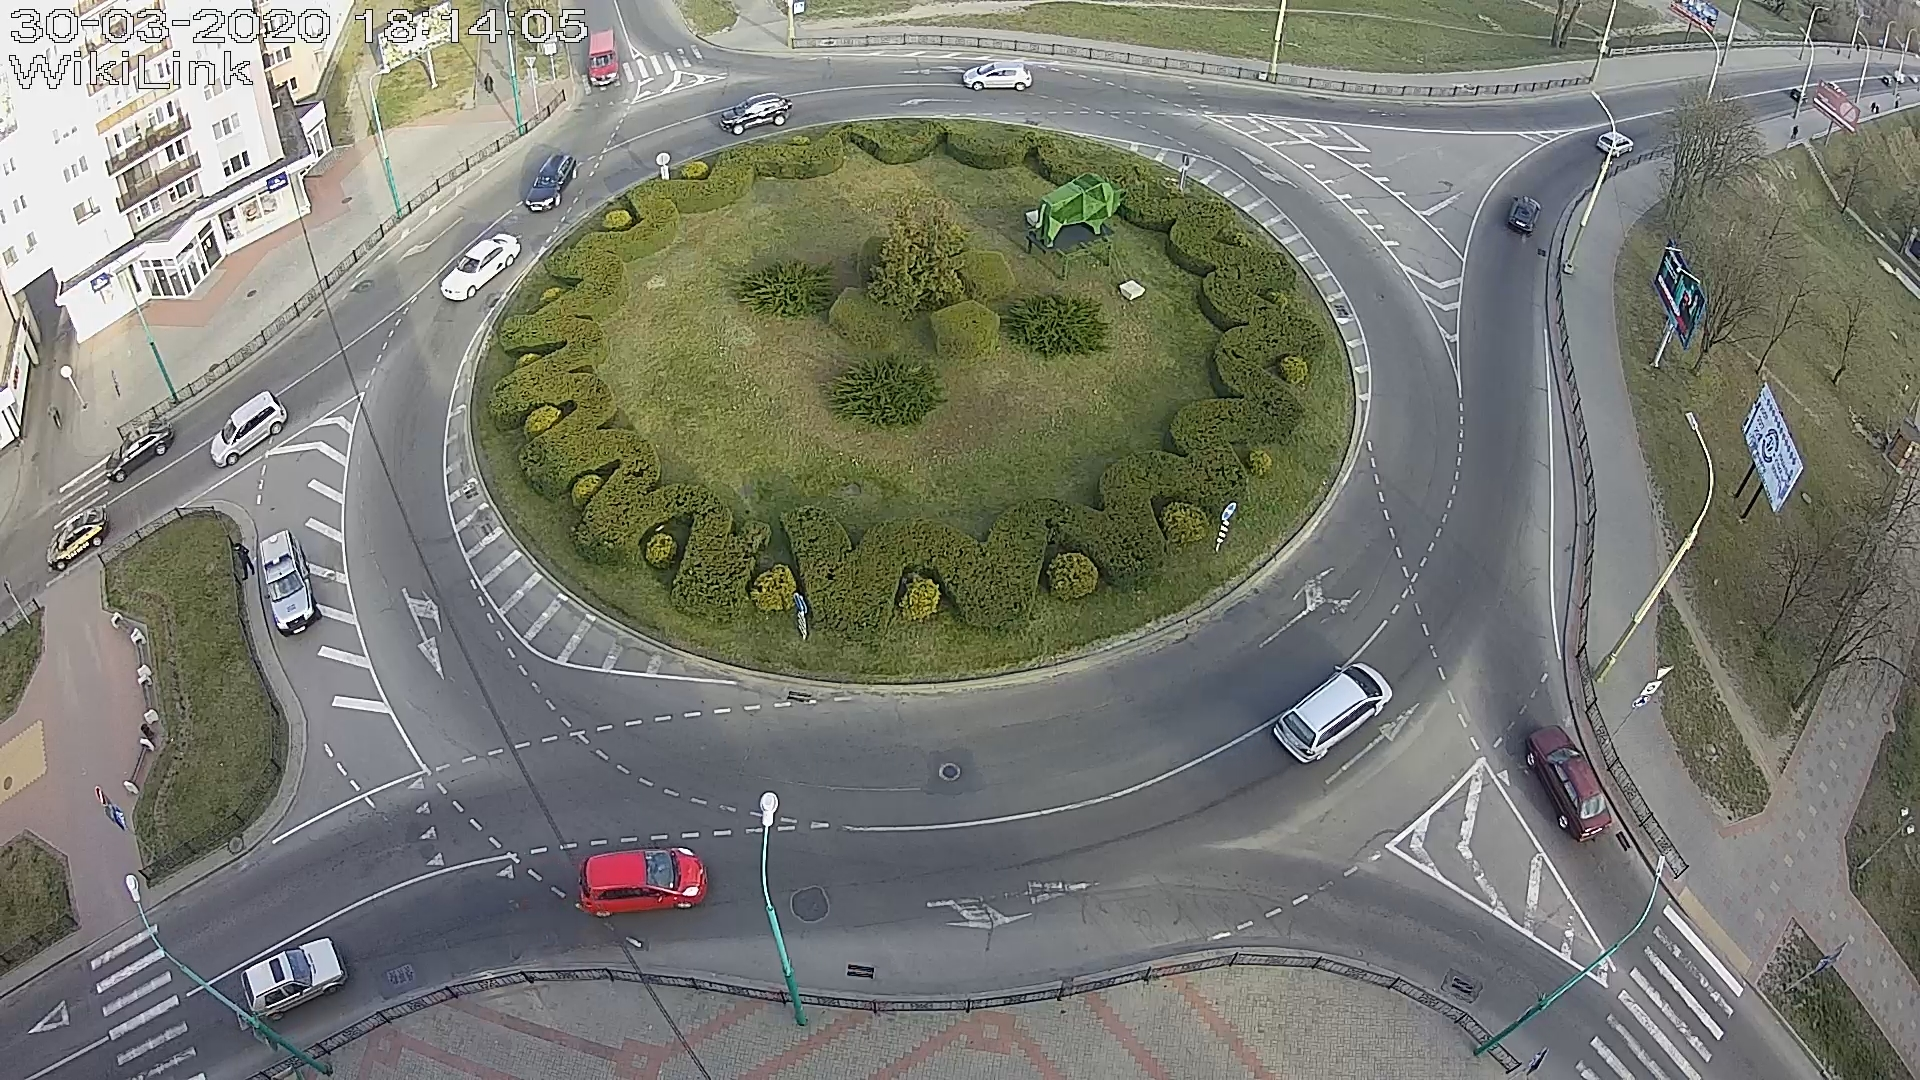car: (1273, 662, 1393, 764), (1524, 725, 1611, 843), (576, 847, 708, 918), (240, 938, 348, 1022), (258, 529, 322, 638), (210, 390, 287, 468), (440, 233, 522, 301), (105, 415, 175, 483), (46, 505, 109, 572), (525, 153, 578, 214), (720, 92, 793, 135), (963, 61, 1033, 94), (587, 26, 618, 87), (1509, 195, 1542, 235), (1596, 132, 1634, 158)
